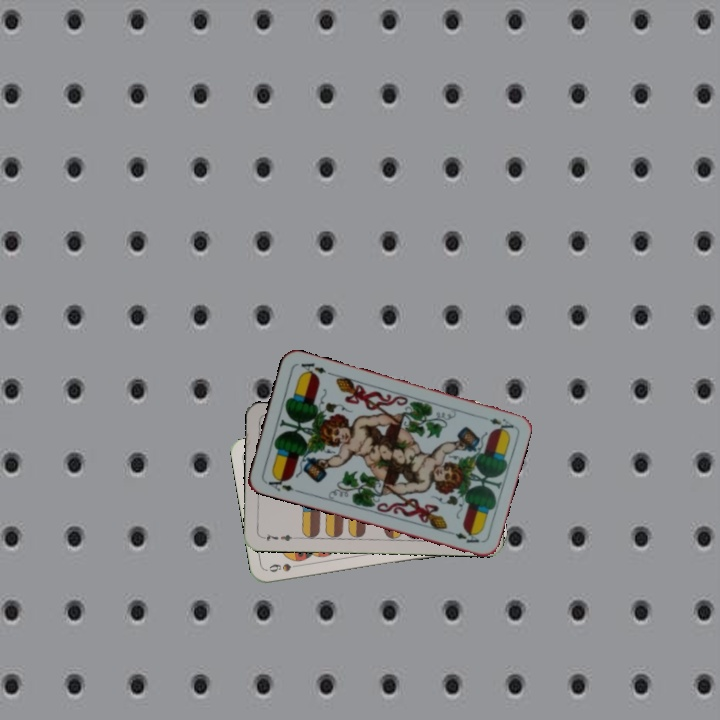E7: (258, 529, 299, 544)
EA: (262, 472, 302, 495), (486, 414, 516, 434)
S9: (264, 559, 305, 575)
